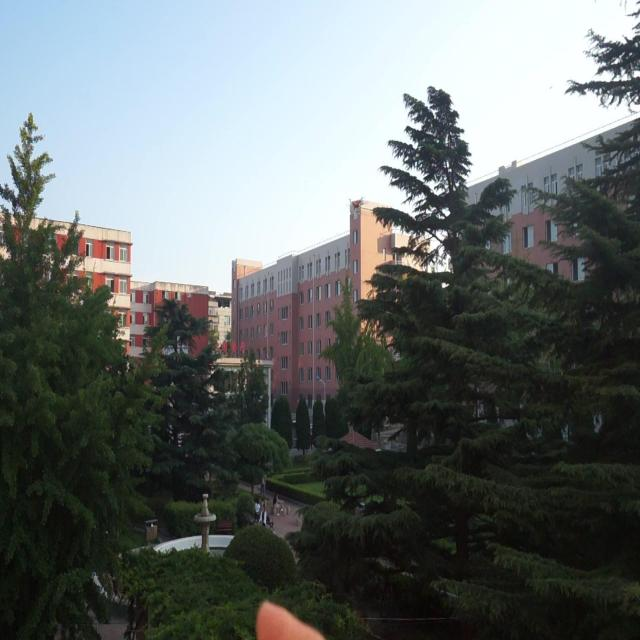drone: (345, 193, 367, 216)
